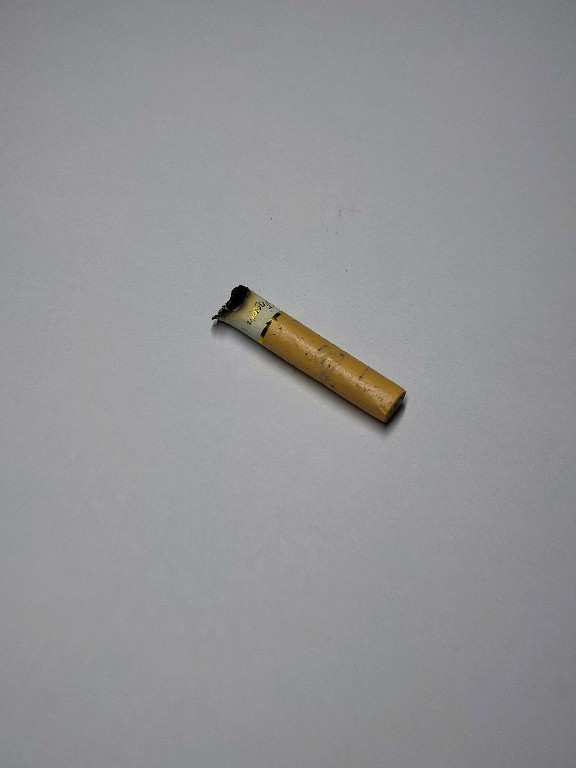cigarette: (203, 276, 421, 438)
